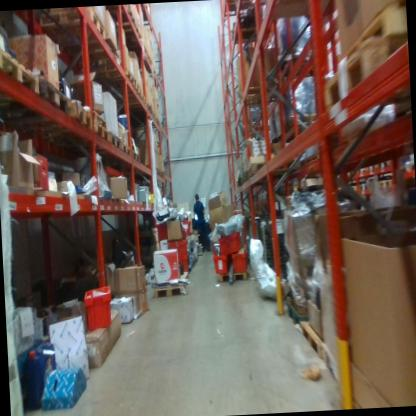pallet: (313, 28, 407, 120), (336, 0, 408, 63), (278, 295, 325, 366), (33, 10, 106, 54), (18, 98, 94, 136), (0, 39, 42, 102), (57, 34, 126, 71), (31, 66, 71, 123), (271, 111, 329, 143), (276, 54, 330, 87), (229, 16, 279, 50), (239, 162, 302, 186), (234, 81, 280, 108), (92, 66, 136, 92), (145, 278, 186, 302), (102, 78, 142, 101), (220, 0, 262, 18), (213, 267, 249, 286), (101, 124, 123, 152), (90, 124, 109, 148), (371, 176, 395, 195), (89, 104, 110, 125), (367, 156, 391, 174), (351, 159, 369, 182), (353, 181, 370, 196), (127, 137, 141, 155), (129, 149, 145, 164), (120, 141, 132, 159)
small_load_carrier: (79, 276, 119, 329), (213, 225, 244, 255), (212, 247, 231, 278), (229, 246, 250, 272), (163, 238, 189, 257), (178, 215, 195, 239), (177, 252, 190, 270)
stillage: (250, 214, 311, 288), (233, 207, 267, 268)
